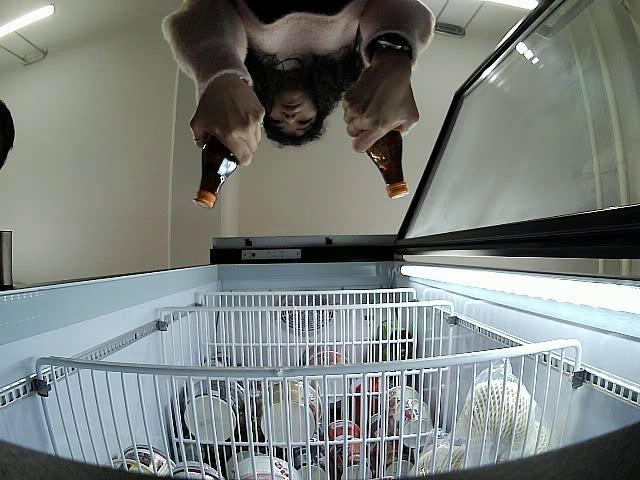17_vita500: (192, 134, 240, 210), (363, 128, 410, 202)
